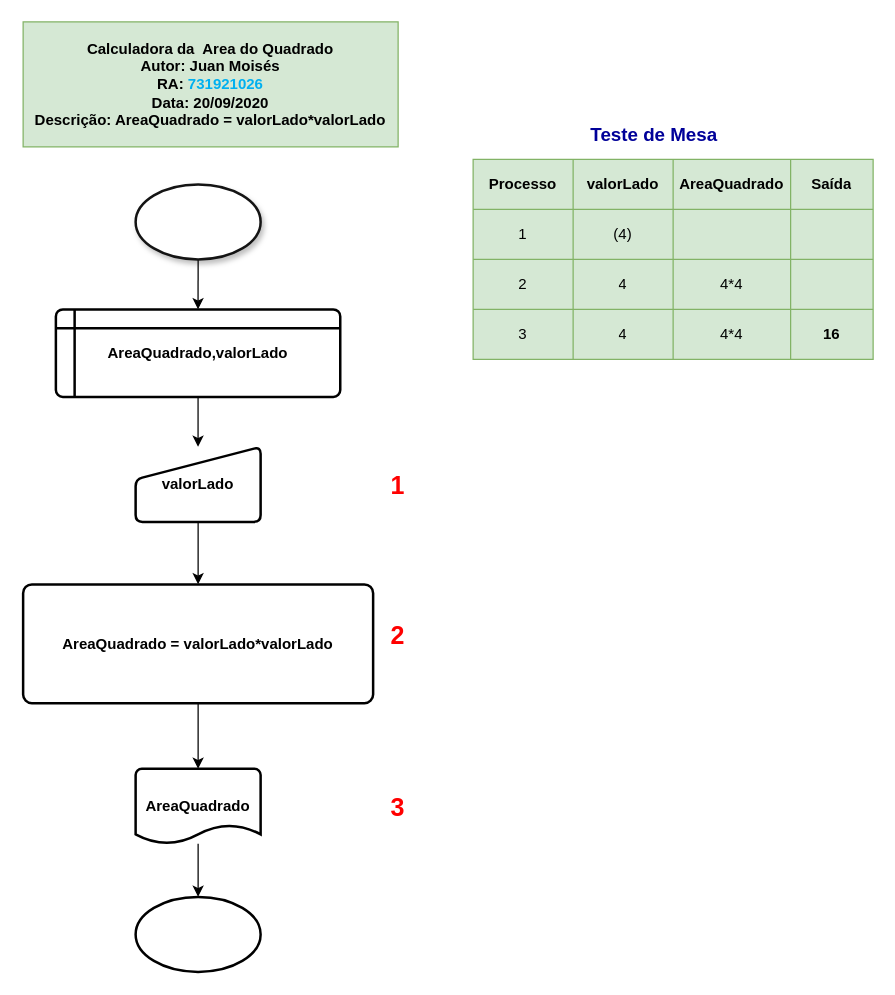
This 895x995 diagram has some shape labels left out. Each missing label, with the centre of its shape:
"Fim" belongs at (x=197, y=933).
"Inicio" belongs at (x=199, y=223).
